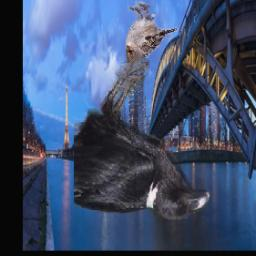Crow: (75, 50, 210, 221)
Sparrow: (124, 1, 179, 63)
